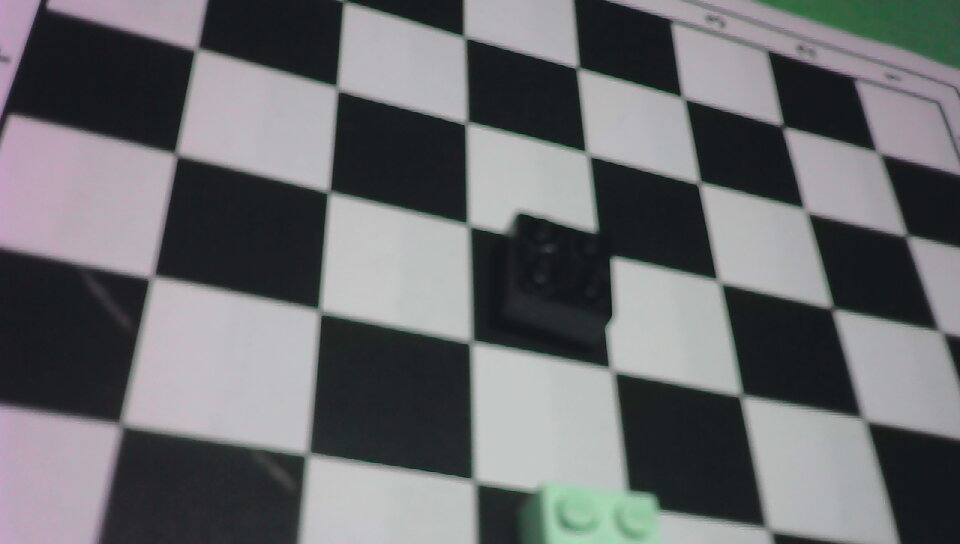bp: (499, 207, 616, 352)
